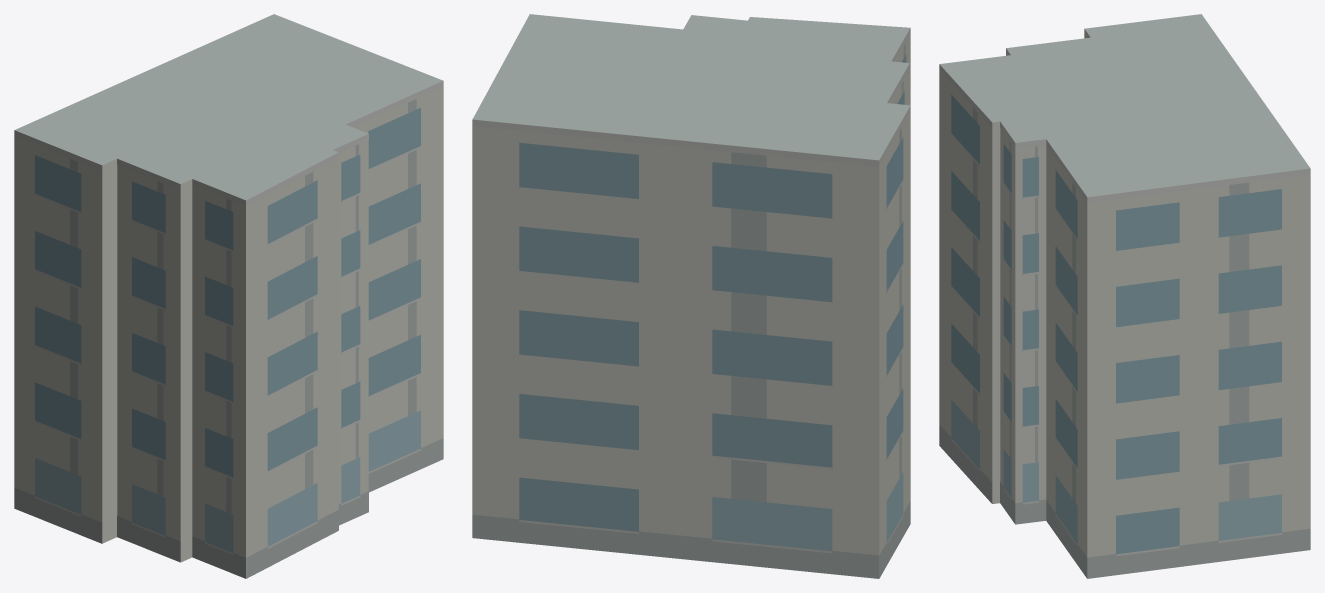
Rendered from survey-upis-32940025.glb.
The picture shows the model from 3 angles, left to right: view 1: azimuth 30°, elevation 25°; view 2: azimuth 150°, elevation 25°; view 3: azimuth 270°, elevation 25°; orthographic projection. The views are drawn at different scales.
Visible parts, largest first — view 1: survey-upis-32940025.tmp; view 2: survey-upis-32940025.tmp; view 3: survey-upis-32940025.tmp.
Part boxes in pixels (x1,y1,x2,y2): survey-upis-32940025.tmp: [14, 14, 443, 578]; survey-upis-32940025.tmp: [472, 14, 910, 578]; survey-upis-32940025.tmp: [939, 14, 1310, 578].
Size of the model in its own units: 15.79 by 15.32 by 13.52.
